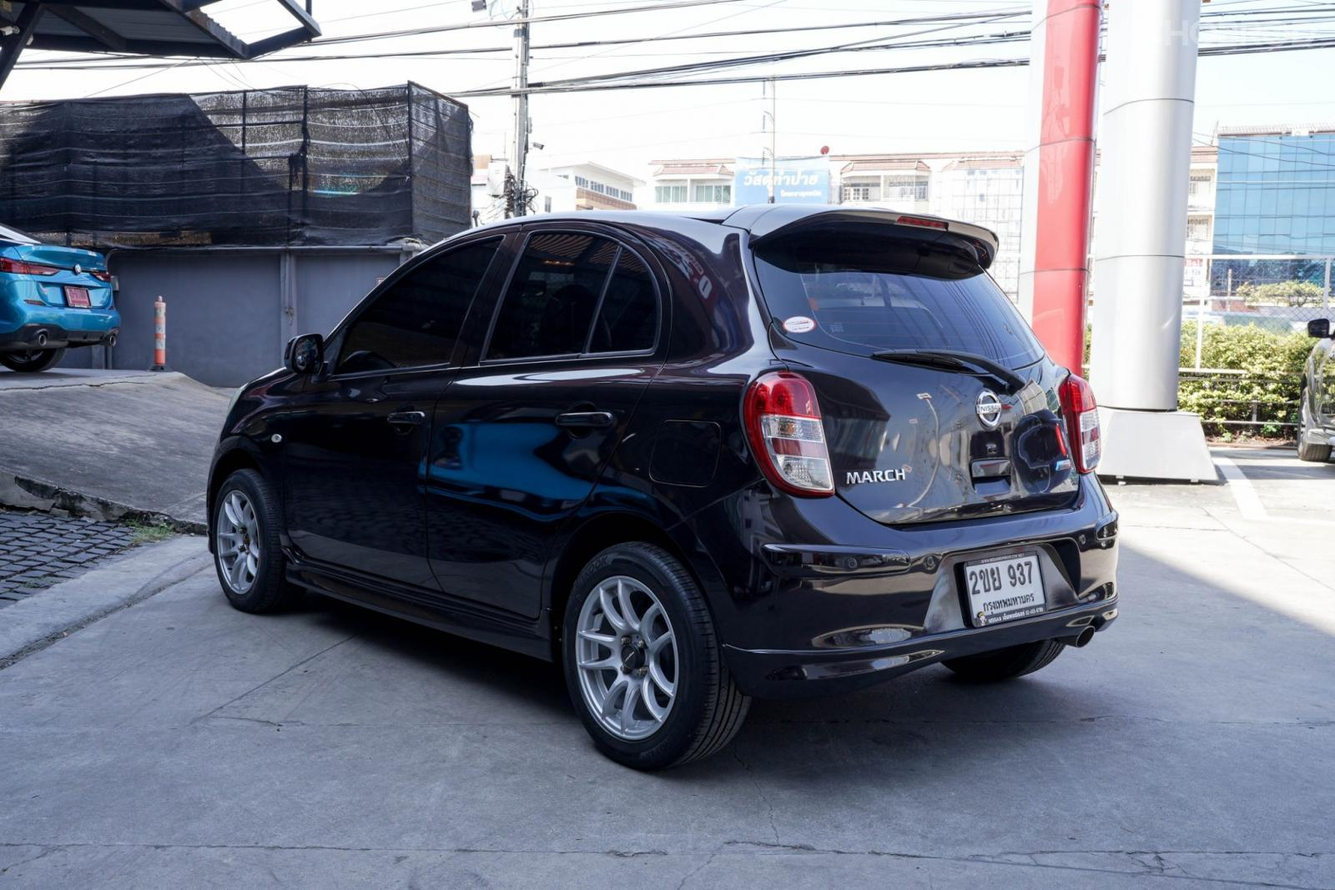license-plate: (949, 543, 1051, 639)
